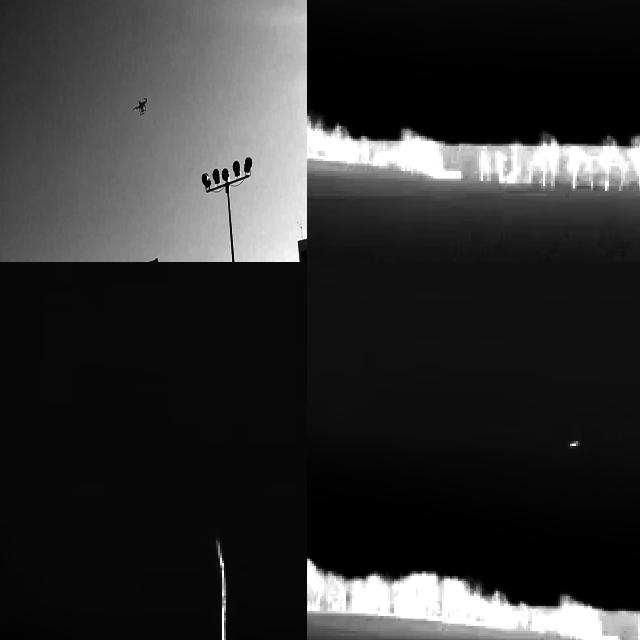1: (553, 428, 595, 472)
drone: (134, 94, 150, 118)
